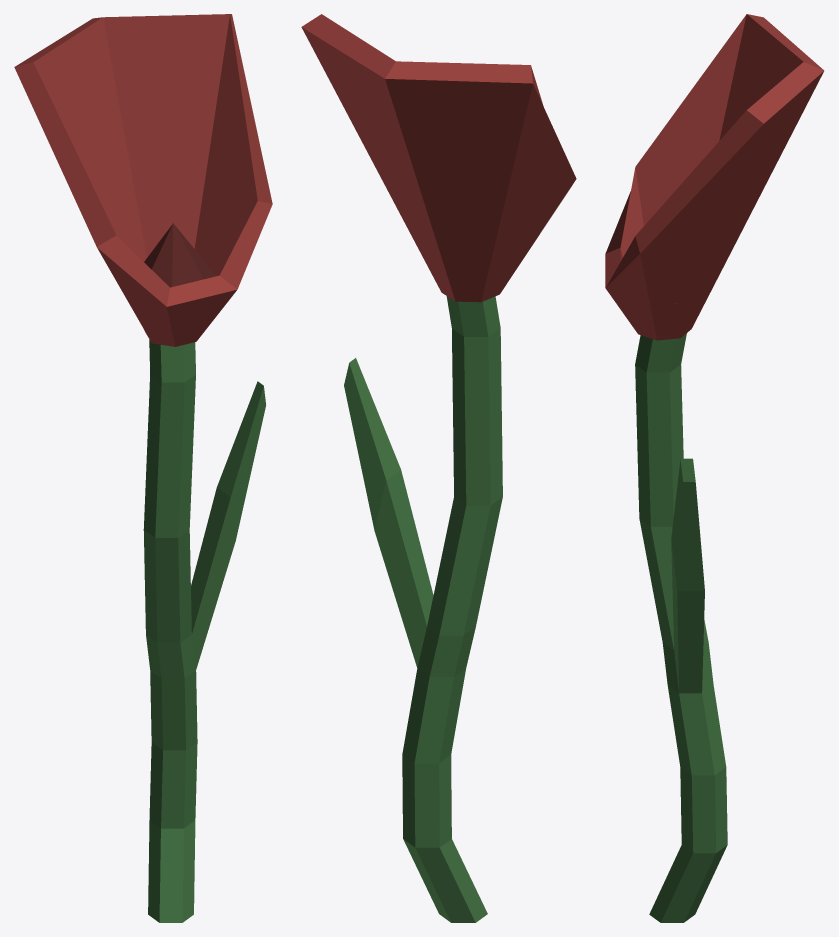
Rendered from Flower_5_Red.fbx.
3 views of the same model, side by side, from view 1: azimuth 30°, elevation 25°; view 2: azimuth 150°, elevation 25°; view 3: azimuth 270°, elevation 25° (orthographic). The views are drawn at different scales.
Visible parts, largest first — view 1: Flower_5_Red_Part_2, Flower_5_Red_Part_1, Flower_5_Red_Part_3; view 2: Flower_5_Red_Part_2, Flower_5_Red_Part_1; view 3: Flower_5_Red_Part_2, Flower_5_Red_Part_1.
Boxes of the visible parts, bbox=[...] form: Flower_5_Red_Part_2: bbox=[14, 14, 272, 346]; Flower_5_Red_Part_1: bbox=[143, 339, 265, 922]; Flower_5_Red_Part_3: bbox=[144, 223, 216, 287]; Flower_5_Red_Part_2: bbox=[301, 14, 576, 302]; Flower_5_Red_Part_1: bbox=[344, 296, 502, 922]; Flower_5_Red_Part_2: bbox=[605, 14, 824, 340]; Flower_5_Red_Part_1: bbox=[635, 333, 727, 922].
Bounding box in the file's own units: 10.95 × 40.82 × 9.51.
